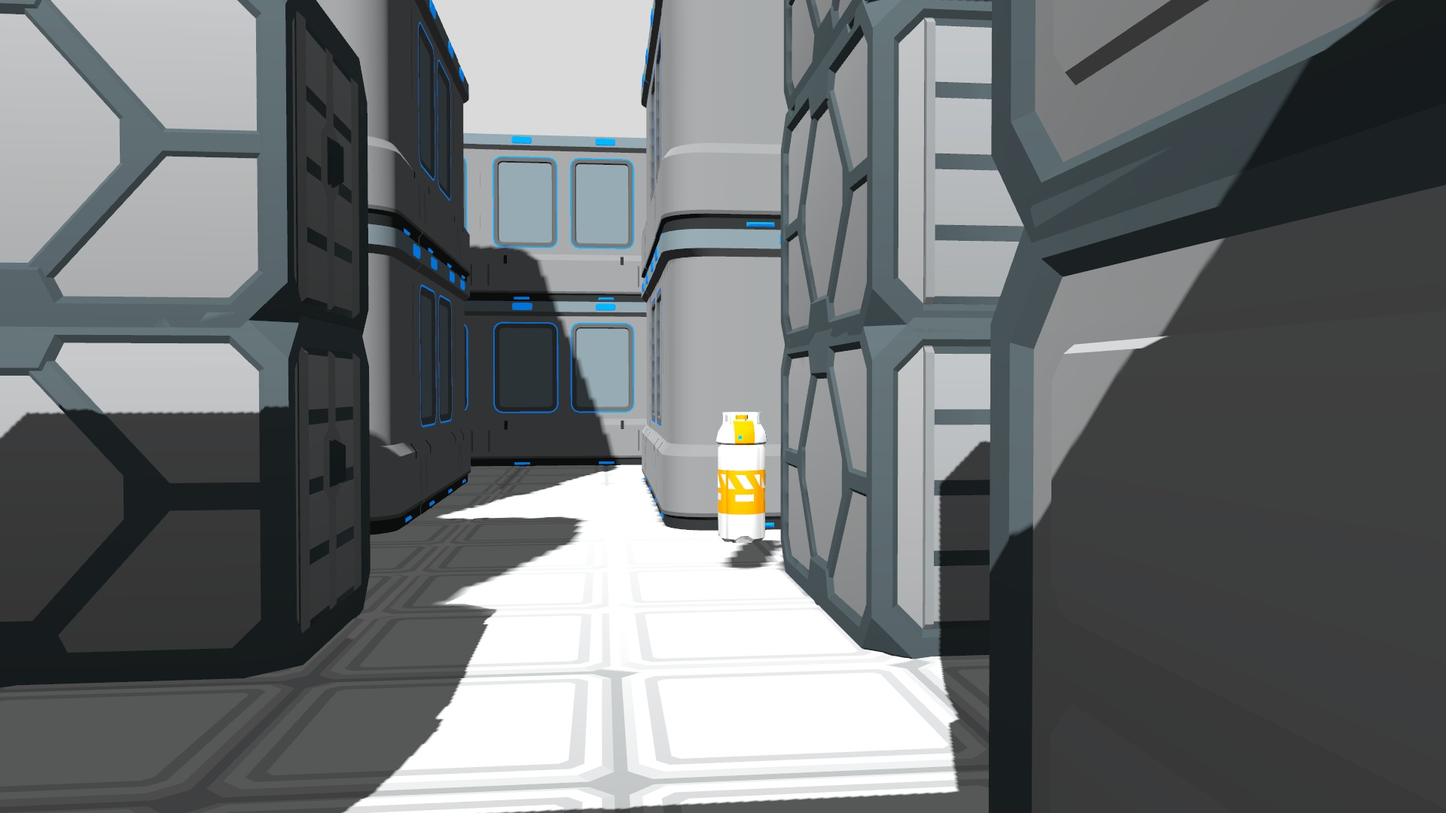yellow_barrel: (715, 405, 770, 547)
